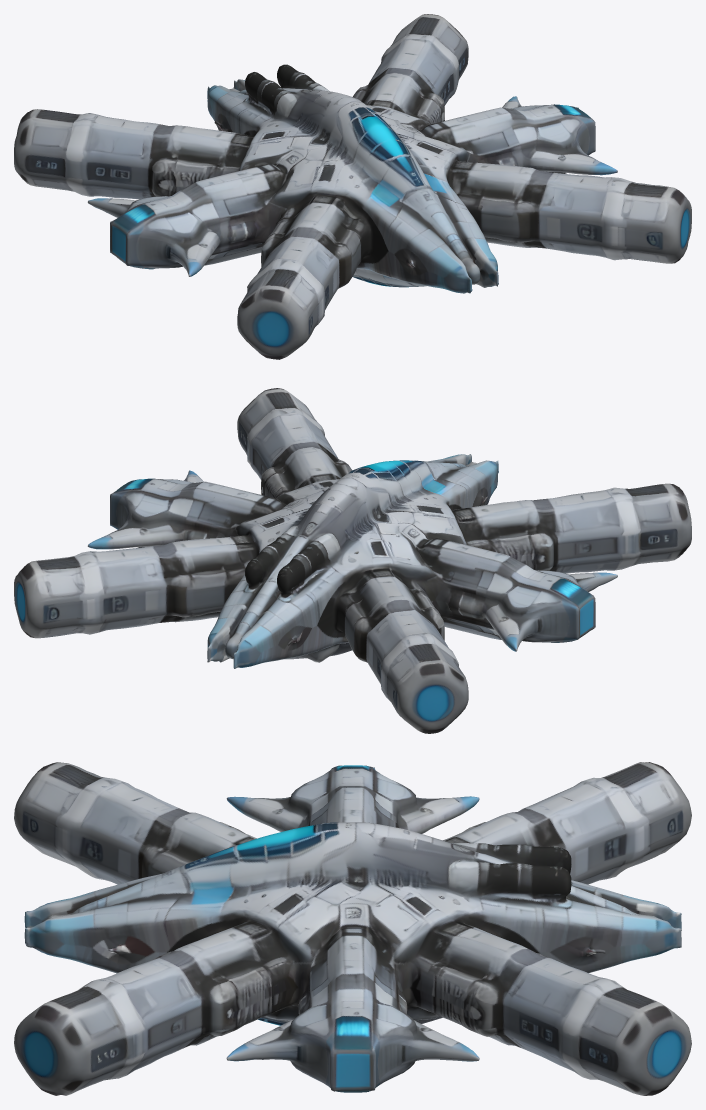
File: nave media.fbx
3 views of the same model, one above another, from view 1: azimuth 30°, elevation 25°; view 2: azimuth 150°, elevation 25°; view 3: azimuth 270°, elevation 25° (orthographic). The views are drawn at different scales.
Visible parts, largest first — view 1: nave media; view 2: nave media; view 3: nave media.
Boxes of the visible parts, x1,y1,x2,y2 form: nave media: (14, 14, 691, 359); nave media: (14, 388, 691, 733); nave media: (14, 762, 691, 1095).
Size of the model in its own units: 189 by 64.79 by 191.
